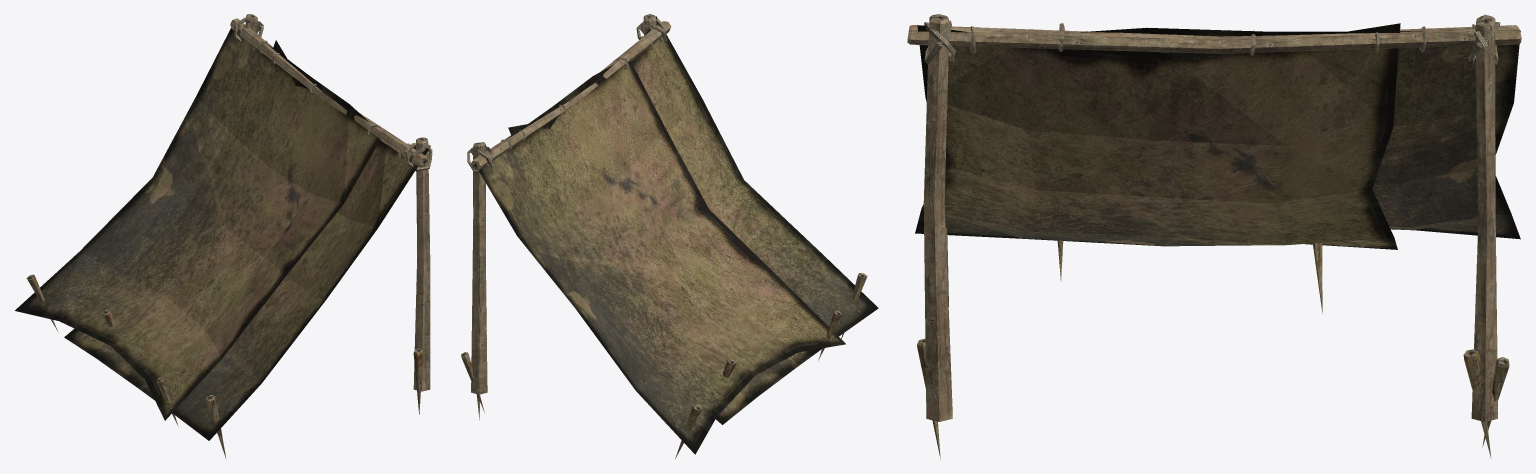
The model's file is TW2_5_MINEHUT_01_2-transformed.glb.
The picture shows the model from 3 angles, left to right: view 1: azimuth 30°, elevation 25°; view 2: azimuth 150°, elevation 25°; view 3: azimuth 270°, elevation 25°; orthographic projection. The views are drawn at different scales.
Visible parts, largest first — view 1: default; view 2: default; view 3: default.
Boxes of the visible parts, left/top/right/bottom form: default: left=15, top=14, right=432, bottom=457; default: left=461, top=14, right=878, bottom=458; default: left=907, top=14, right=1521, bottom=458.
Size of the model in its own units: 2.27 by 2.51 by 3.14.
Materials: 2 (2 with a texture image).
